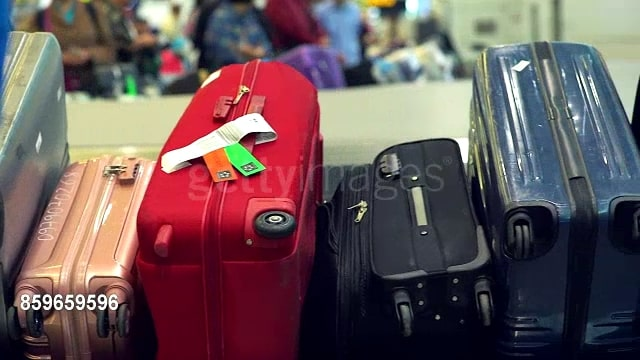baggage: (464, 32, 640, 356), (139, 60, 326, 360), (327, 138, 500, 360), (22, 146, 155, 360)
